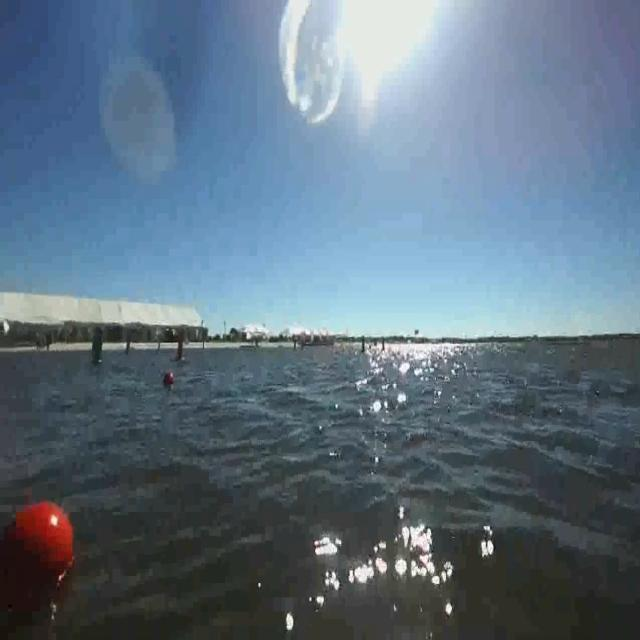green-column-buoy: (91, 328, 106, 368)
red-buoy: (2, 503, 75, 602), (164, 371, 176, 387)
red-column-buoy: (175, 334, 185, 362)
